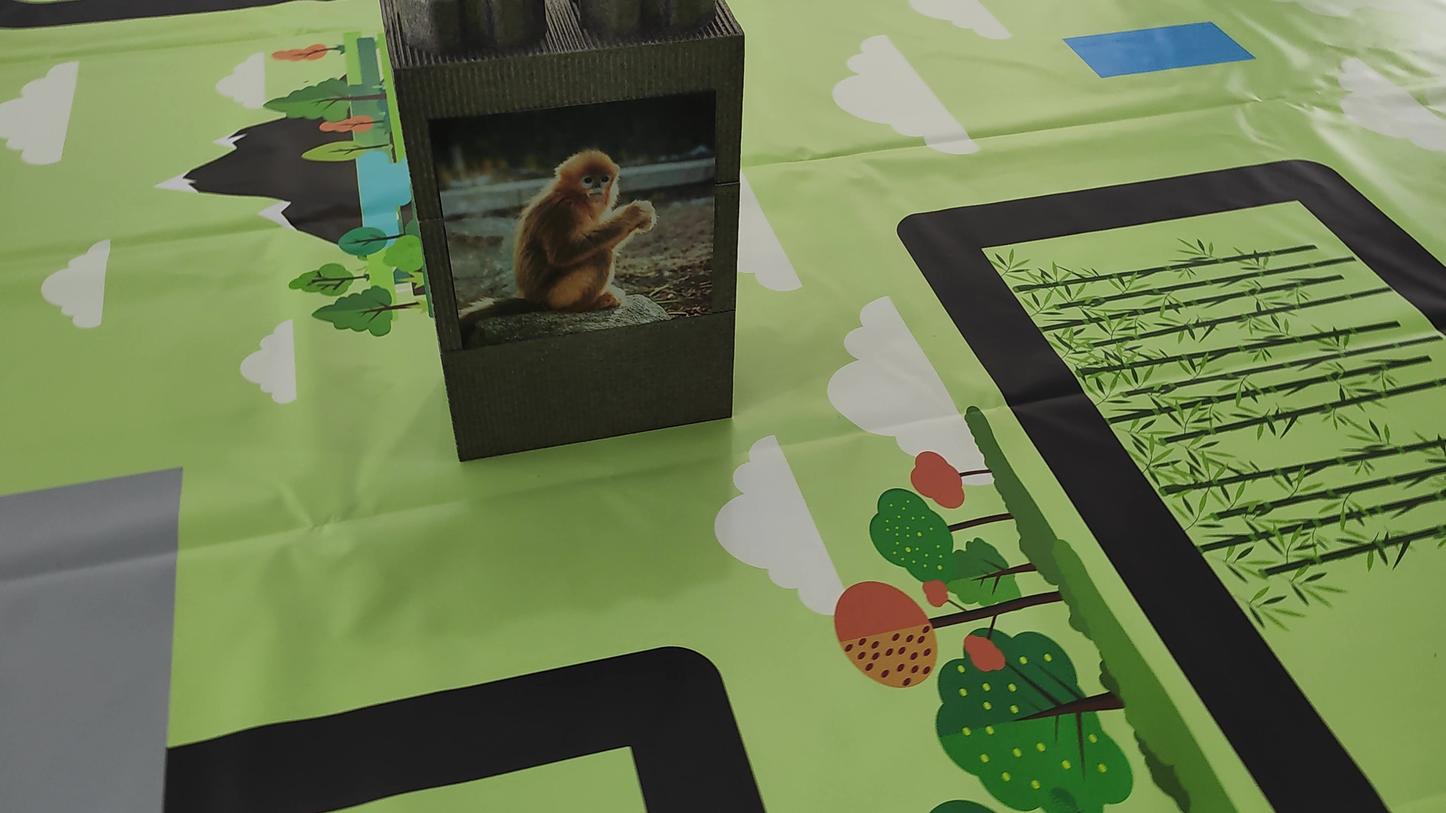monkey: (455, 137, 705, 351)
